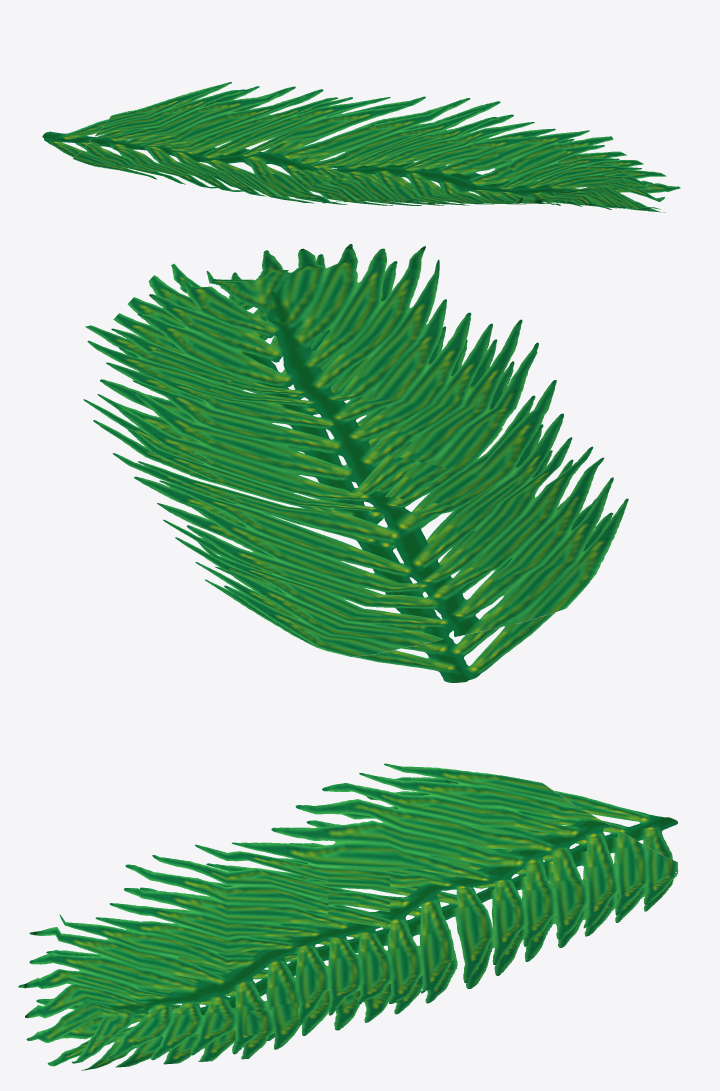
Rendered from LeafDoubleSided.fbx.
The picture shows the model from 3 angles, top to bottom: view 1: azimuth 30°, elevation 25°; view 2: azimuth 150°, elevation 25°; view 3: azimuth 270°, elevation 25°; orthographic projection. The views are drawn at different scales.
Visible parts, largest first — view 1: pCube1; view 2: pCube1; view 3: pCube1.
Part boxes in pixels (x1,y1,x2,y2): pCube1: [42, 82, 680, 212]; pCube1: [83, 244, 628, 682]; pCube1: [18, 763, 678, 1070].
Bounding box in the file's own units: 5.95 × 0.9806 × 5.98.
